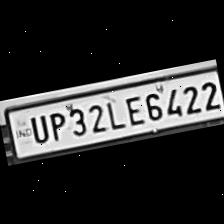2: (195, 76, 221, 111), (83, 99, 108, 134), (177, 80, 202, 114)
3: (64, 102, 88, 138)
4: (158, 83, 183, 118)
6: (140, 86, 164, 122)
E: (120, 91, 144, 127)
L: (102, 95, 124, 131)
P: (43, 106, 69, 142)
U: (24, 110, 50, 144)
